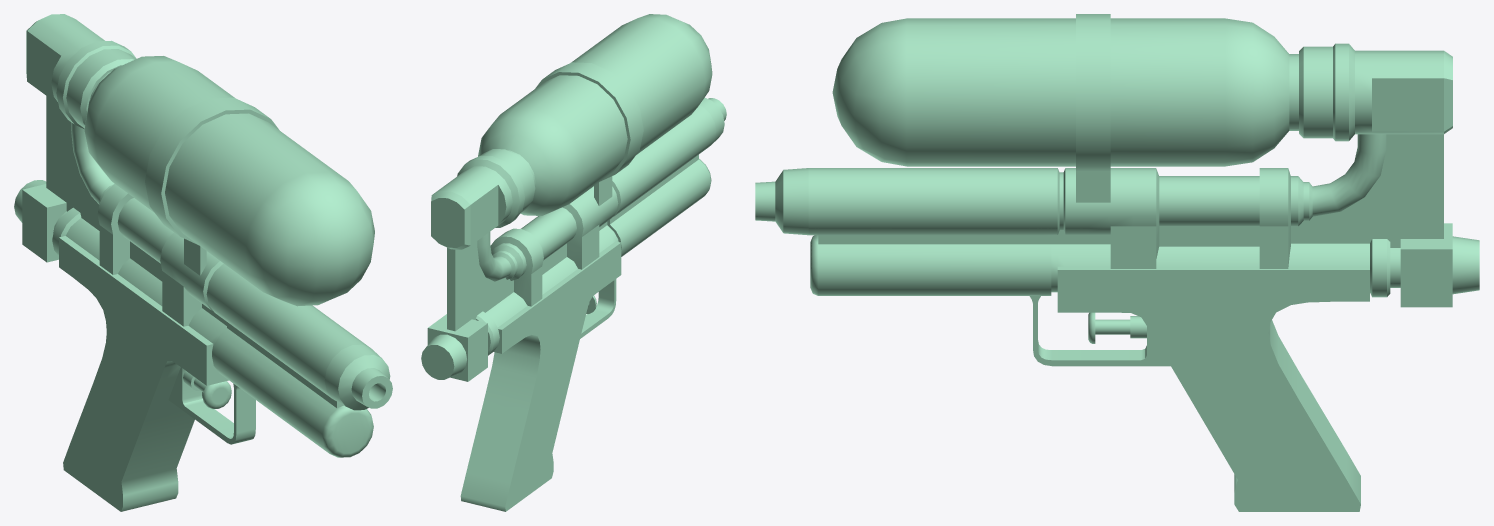
Rendered from water_pistol.glb.
3 views of the same model, side by side, from view 1: azimuth 30°, elevation 25°; view 2: azimuth 150°, elevation 25°; view 3: azimuth 270°, elevation 25° (orthographic). The views are drawn at different scales.
Parts seen in each view (by area): view 1: water_pistol, trigger; view 2: water_pistol; view 3: water_pistol, trigger.
Boxes of the visible parts, left/top/right/bottom form: water_pistol: left=14, top=14, right=392, bottom=511; trigger: left=194, top=378, right=231, bottom=409; water_pistol: left=421, top=14, right=726, bottom=511; water_pistol: left=755, top=14, right=1479, bottom=511; trigger: left=1088, top=312, right=1130, bottom=343.
Size of the model in its own units: 0.0767 by 0.2566 by 0.3534.
